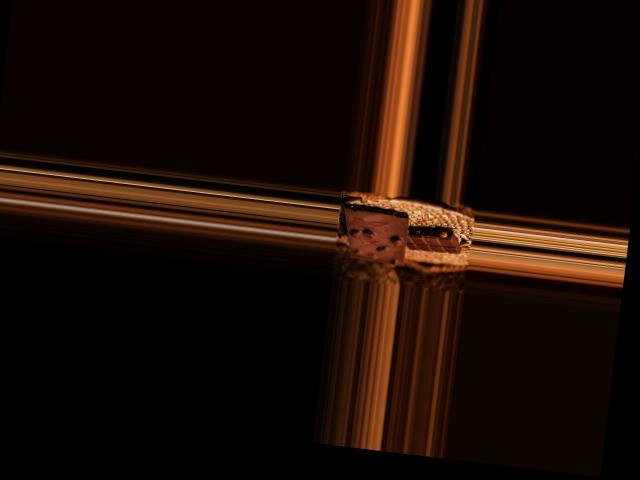chocolate: (337, 203, 414, 268)
